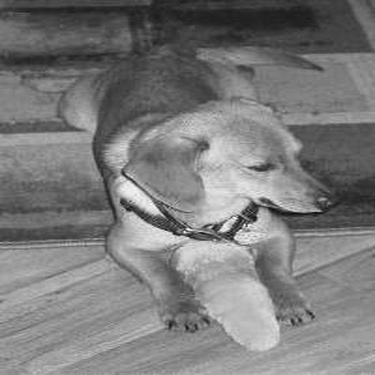dog: (45, 33, 340, 338)
